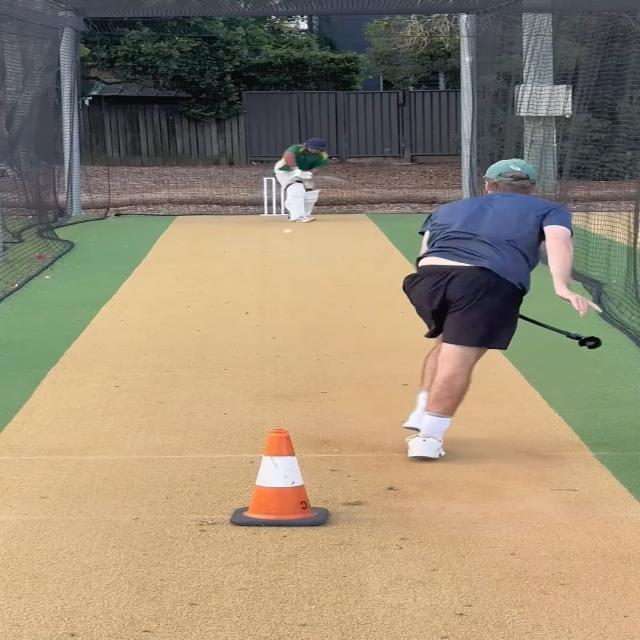ball: (281, 228, 292, 235)
stump: (262, 177, 289, 218)
